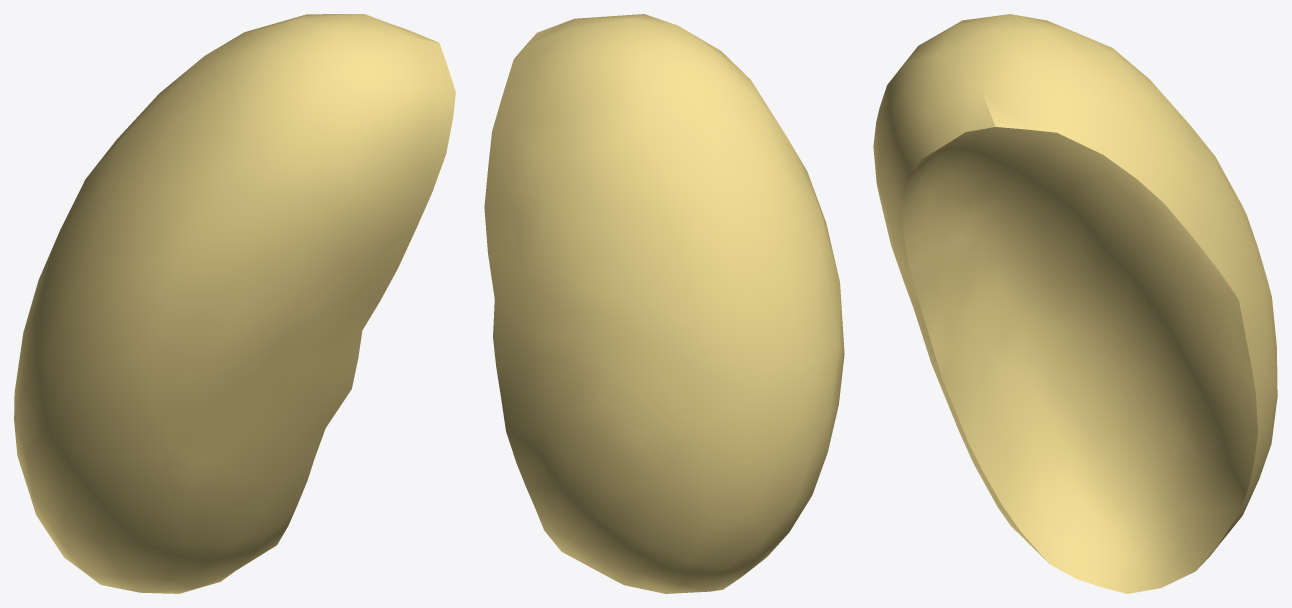
File: fma54534_mm3503m.glb
3 views of the same model, side by side, from view 1: azimuth 30°, elevation 25°; view 2: azimuth 150°, elevation 25°; view 3: azimuth 270°, elevation 25° (orthographic). The views are drawn at different scales.
Visible parts, largest first — view 1: FMA54534_MM3503M; view 2: FMA54534_MM3503M; view 3: FMA54534_MM3503M.
Boxes of the visible parts, x1,y1,x2,y2 form: FMA54534_MM3503M: (14,14,455,593); FMA54534_MM3503M: (484,14,844,593); FMA54534_MM3503M: (873,14,1277,593).
Size of the model in its own units: 0.00314 by 0.00472 by 0.00291.
